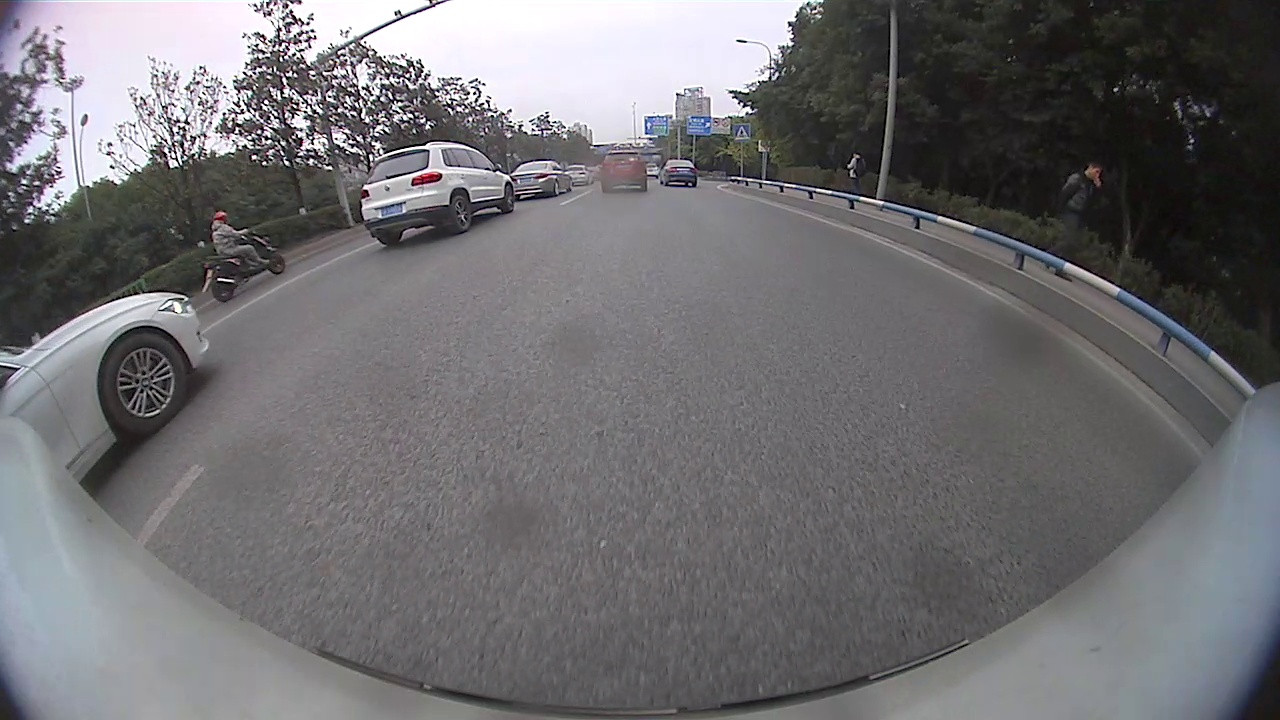car: (1, 289, 210, 484), (357, 140, 517, 249), (509, 158, 575, 202), (599, 148, 649, 193), (658, 157, 699, 188)
front: (100, 329, 192, 433), (501, 184, 517, 213)
person: (1068, 159, 1105, 287), (851, 150, 866, 203)
rear: (444, 192, 477, 233)
rider: (197, 210, 288, 303)
